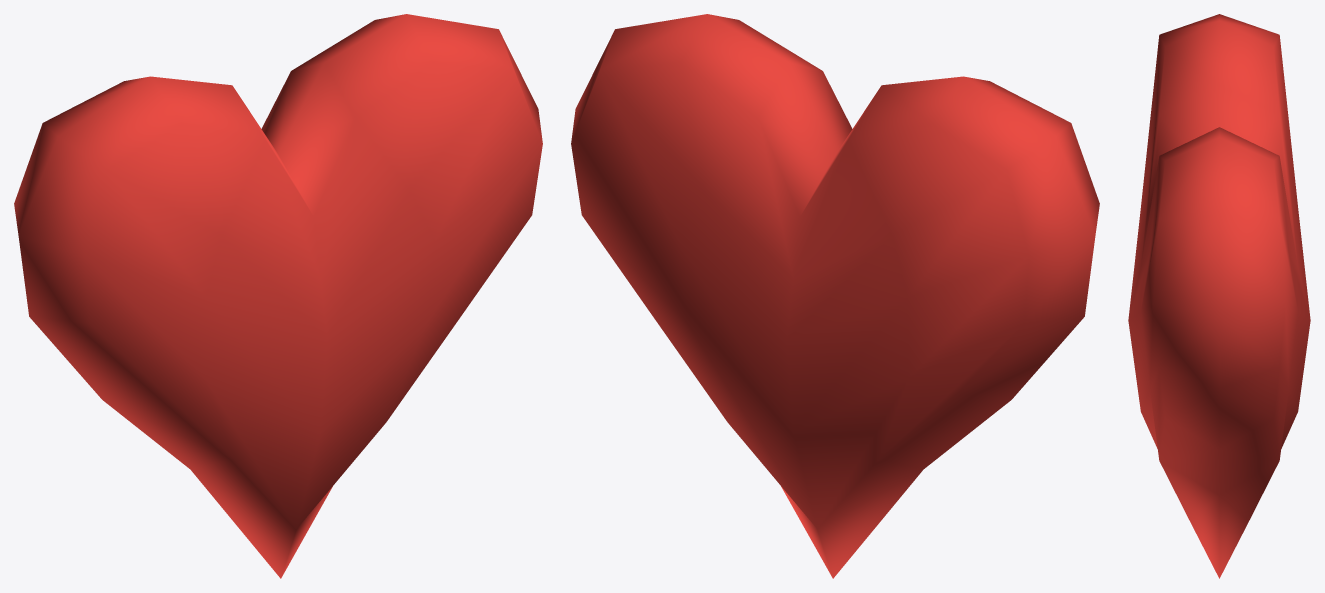
The model's file is heart.glb.
The picture shows the model from 3 angles, left to right: view 1: azimuth 30°, elevation 25°; view 2: azimuth 150°, elevation 25°; view 3: azimuth 270°, elevation 25°; orthographic projection. The views are drawn at different scales.
Visible parts, largest first — view 1: Cube.002; view 2: Cube.002; view 3: Cube.002.
Boxes of the visible parts, x1,y1,x2,y2 form: Cube.002: (14,14,542,578); Cube.002: (571,14,1099,578); Cube.002: (1128,14,1310,578).
Size of the model in its own units: 1.18 by 1.16 by 0.3851.
